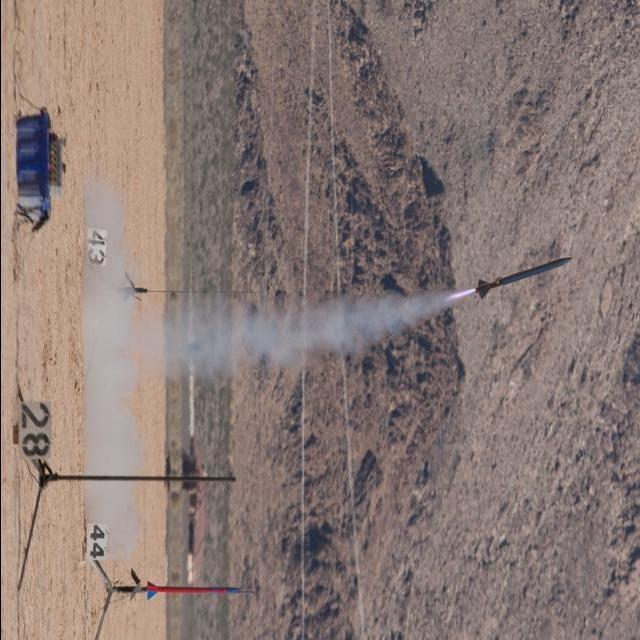missile: (474, 254, 574, 300)
